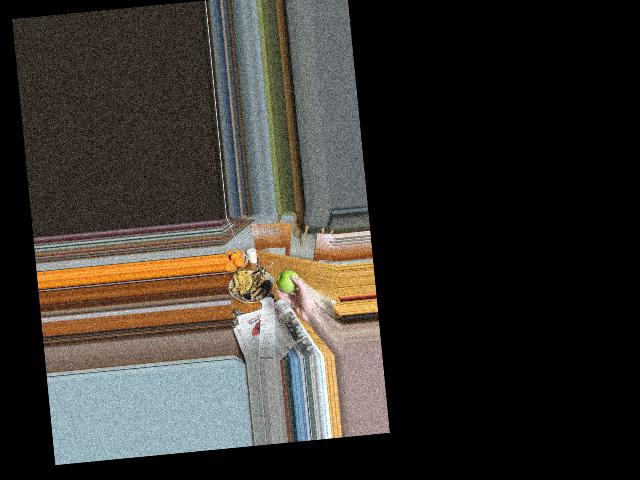apple: (275, 267, 302, 297)
